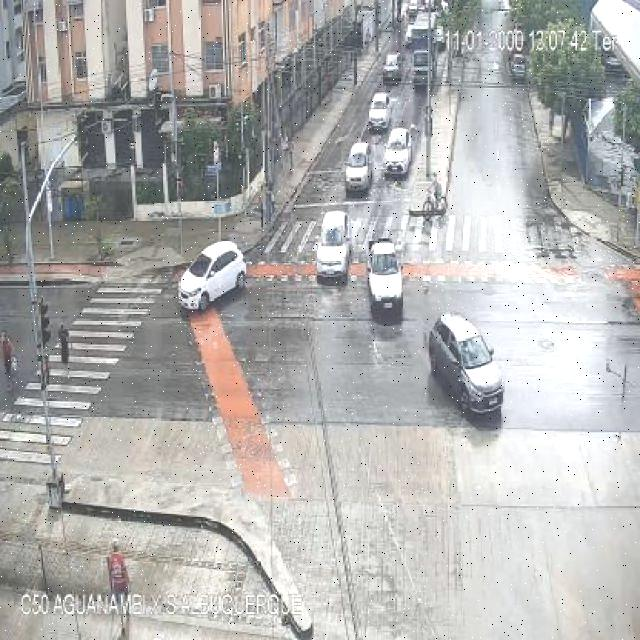Car: (428, 310, 504, 418), (178, 241, 248, 313), (314, 213, 351, 285), (343, 143, 372, 194), (384, 128, 413, 178), (367, 92, 392, 133), (381, 52, 401, 84), (509, 52, 528, 80)
Cycle: (420, 188, 450, 222)
Truck: (364, 237, 406, 315), (411, 36, 434, 88)
